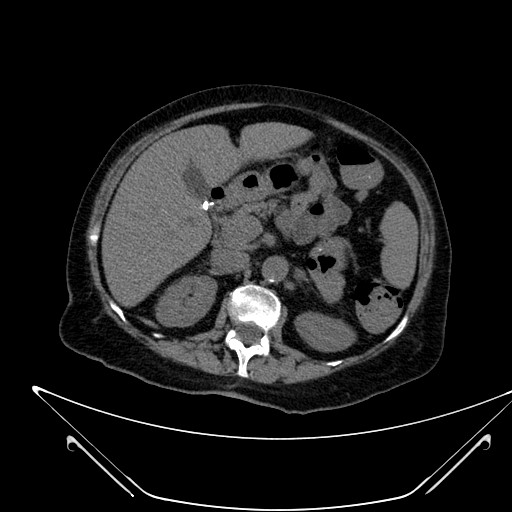clipe: (202, 200, 215, 212), (203, 201, 209, 211), (209, 201, 215, 206)
